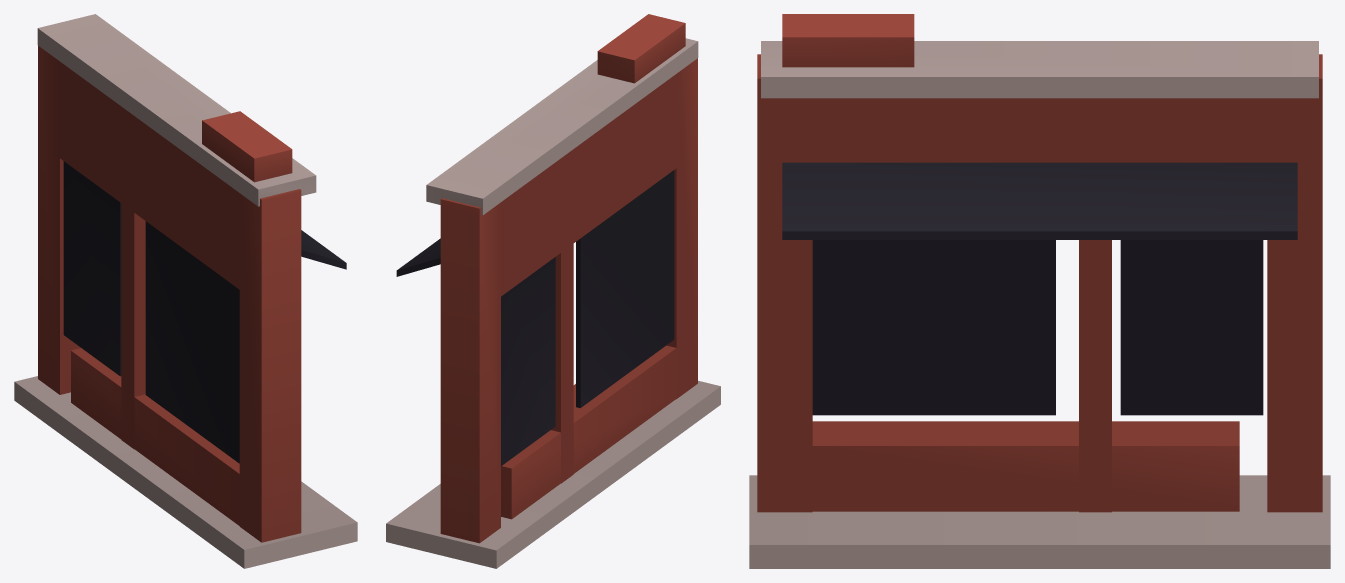
3 views of the same model, side by side, from view 1: azimuth 30°, elevation 25°; view 2: azimuth 150°, elevation 25°; view 3: azimuth 270°, elevation 25° (orthographic). The views are drawn at different scales.
Visible parts, largest first — view 1: root_pal_brick, root_pal_uiDark, root_pal_sidewalk; view 2: root_pal_brick, root_pal_uiDark, root_pal_sidewalk; view 3: root_pal_brick, root_pal_uiDark, root_pal_sidewalk.
Part boxes in pixels (bbox=[...]): root_pal_brick: bbox=[38, 45, 301, 542]; root_pal_uiDark: bbox=[63, 161, 346, 463]; root_pal_sidewalk: bbox=[14, 14, 357, 568]; root_pal_brick: bbox=[440, 14, 697, 543]; root_pal_uiDark: bbox=[396, 170, 674, 465]; root_pal_sidewalk: bbox=[386, 38, 720, 568]; root_pal_brick: bbox=[757, 14, 1322, 512]; root_pal_uiDark: bbox=[782, 162, 1297, 415]; root_pal_sidewalk: bbox=[749, 41, 1330, 568].
Bounding box in the file's own units: 1.27 × 4.17 × 4.4.
